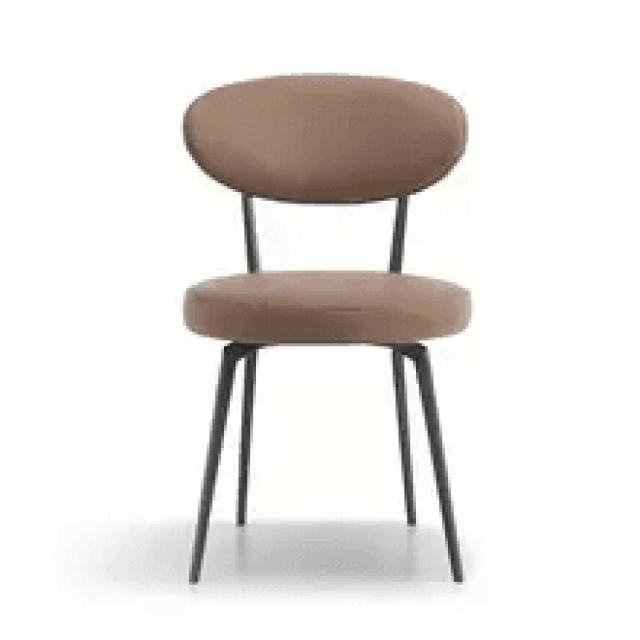chair: (177, 66, 473, 591), (182, 73, 473, 350)
